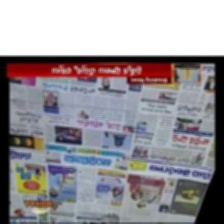news_paper: (10, 61, 216, 223)
